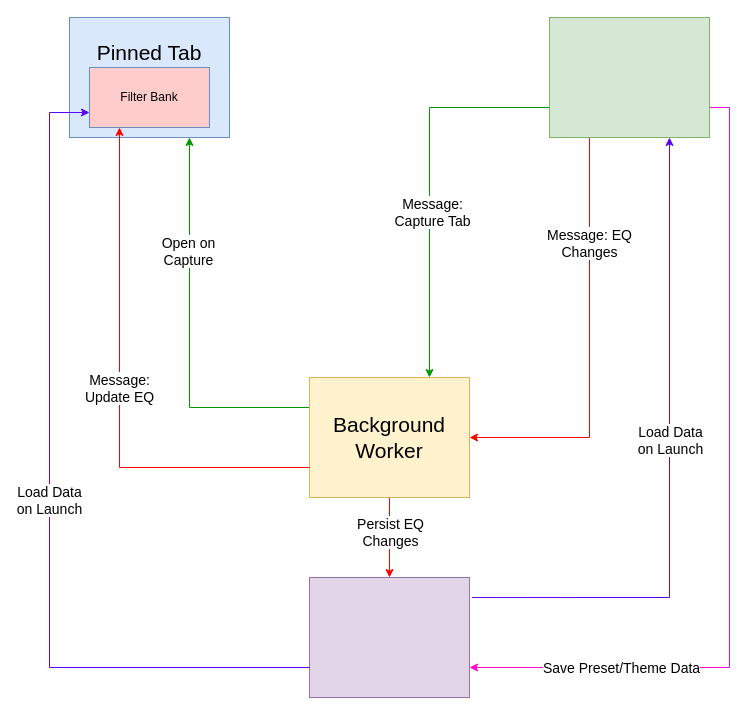
Some shapes in this 755 by 715 pixel diagram are drawn without their labels. Each missing label, with the centre of its shape:
"Equalizer Controls Popup" belongs at point 629,77.
"LocalStorage" belongs at point 389,637.
